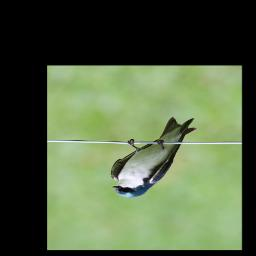Swallow: (110, 117, 198, 198)
